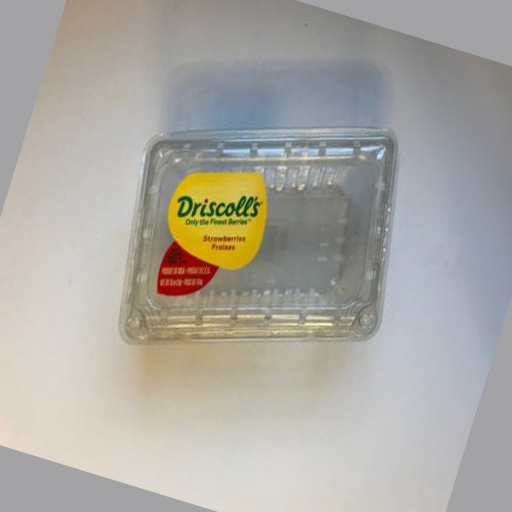Plastic_4: (117, 127, 400, 346)
